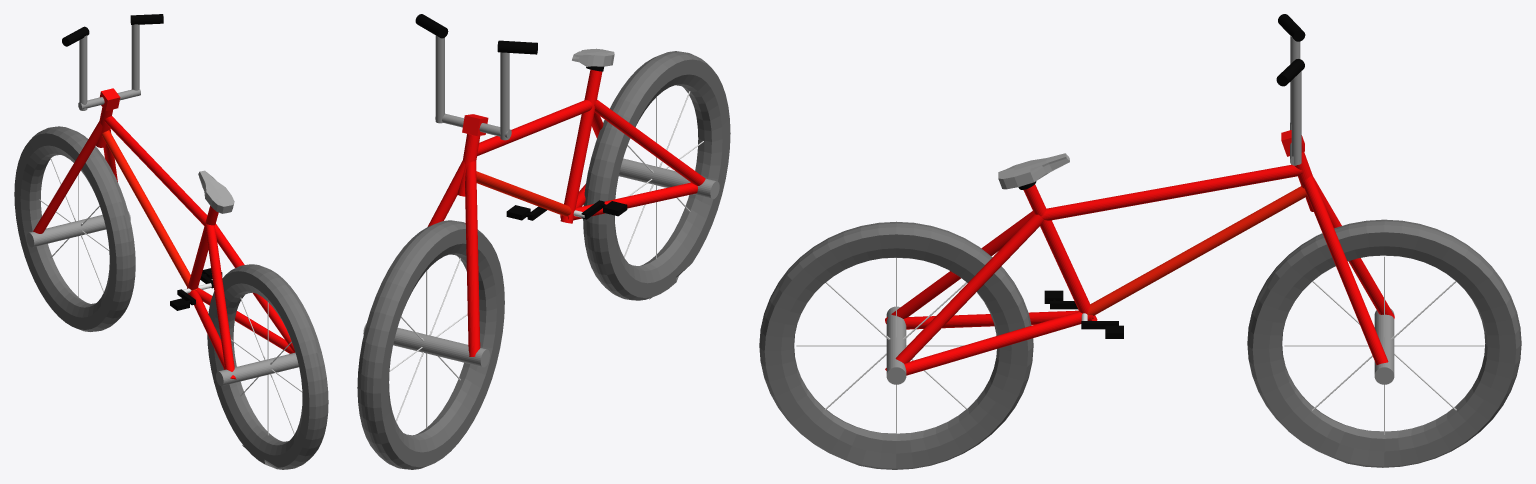
The model's file is Bicycle_Model_colour.fbx.
The picture shows the model from 3 angles, left to right: view 1: azimuth 30°, elevation 25°; view 2: azimuth 150°, elevation 25°; view 3: azimuth 270°, elevation 25°; orthographic projection. The views are drawn at different scales.
Visible parts, largest first — view 1: Tyre.004, Tyre, Cylinder.006, Cylinder.012, Cylinder.005, Cylinder.008, Wheel Connector, Wheel Connector.005, Cylinder.003, Cube, Cylinder, Cylinder.004 (+6 smaller); view 2: Tyre, Tyre.004, Cylinder.008, Cylinder.004, Wheel Connector.005, Cylinder.012, Wheel Connector, Cylinder.005, Cylinder.006, Cylinder.001, Cylinder.010, Cylinder.011 (+7 smaller); view 3: Tyre.004, Tyre, Cylinder.005, Cylinder.006, Cylinder.007, Cylinder.003, Cylinder, Cylinder.004, Cylinder.012, Cube, Cylinder.001, Wheel Connector (+3 smaller).
Boxes of the visible parts, x1=… form: Tyre.004: x1=14, y1=126, x2=135, y2=331; Tyre: x1=207, y1=264, x2=328, y2=469; Cylinder.006: x1=102, y1=130, x2=196, y2=290; Cylinder.012: x1=205, y1=223, x2=236, y2=379; Cylinder.005: x1=104, y1=116, x2=207, y2=225; Cylinder.008: x1=33, y1=121, x2=102, y2=233; Wheel Connector: x1=216, y1=352, x2=298, y2=385; Wheel Connector.005: x1=26, y1=211, x2=130, y2=247; Cylinder.003: x1=214, y1=223, x2=295, y2=352; Cube: x1=198, y1=170, x2=234, y2=213; Cylinder: x1=196, y1=287, x2=293, y2=353; Cylinder.004: x1=187, y1=206, x2=218, y2=293; Tyre: x1=583, y1=51, x2=730, y2=300; Tyre.004: x1=357, y1=220, x2=504, y2=469; Cylinder.008: x1=465, y1=161, x2=480, y2=356; Cylinder.004: x1=560, y1=69, x2=602, y2=223; Wheel Connector.005: x1=363, y1=323, x2=489, y2=367; Cylinder.012: x1=594, y1=99, x2=705, y2=185; Wheel Connector: x1=619, y1=158, x2=719, y2=199; Cylinder.005: x1=477, y1=100, x2=592, y2=156; Cylinder.006: x1=476, y1=171, x2=571, y2=216; Cylinder.001: x1=560, y1=182, x2=697, y2=220; Cylinder.010: x1=435, y1=35, x2=444, y2=123; Cylinder.011: x1=500, y1=52, x2=509, y2=140; Tyre.004: x1=1247, y1=219, x2=1521, y2=467; Tyre: x1=759, y1=221, x2=1033, y2=469; Cylinder.005: x1=1041, y1=164, x2=1302, y2=220; Cylinder.006: x1=1078, y1=186, x2=1306, y2=315; Cylinder.007: x1=1303, y1=176, x2=1388, y2=364; Cylinder.003: x1=885, y1=214, x2=1043, y2=370; Cylinder: x1=904, y1=311, x2=1093, y2=375; Cylinder.004: x1=1023, y1=184, x2=1097, y2=320; Cylinder.012: x1=885, y1=211, x2=1034, y2=323; Cube: x1=998, y1=153, x2=1069, y2=189; Cylinder.001: x1=903, y1=310, x2=1092, y2=329; Wheel Connector: x1=886, y1=306, x2=906, y2=384.
Bounding box in the file's own units: 121 × 372 × 610.
